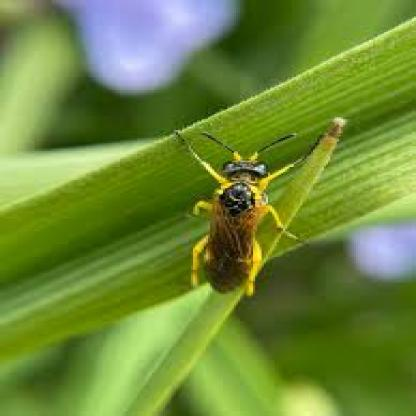sawfly: (170, 118, 322, 302)
